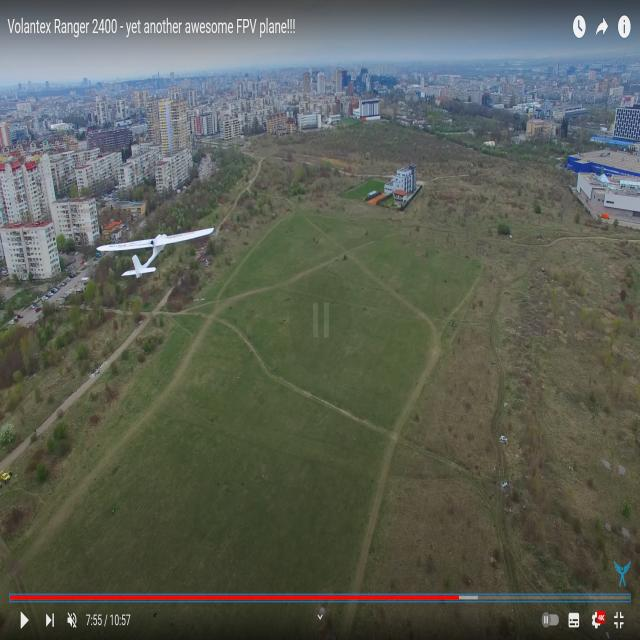iha: (128, 225, 184, 279)
